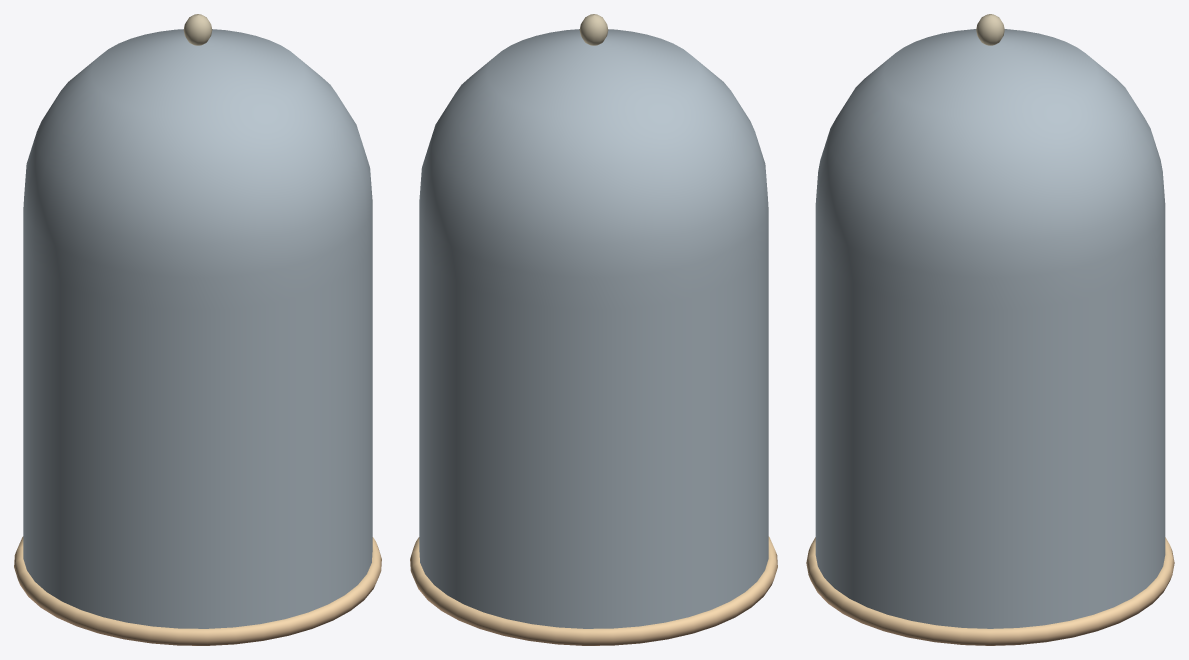
The model's file is Dome.glb.
3 renders of one model, left to right at view 1: azimuth 30°, elevation 25°; view 2: azimuth 150°, elevation 25°; view 3: azimuth 270°, elevation 25°, orthographic.
Parts seen in each view (by area): view 1: b612__Dome__glass, b612__Dome__rim; view 2: b612__Dome__glass, b612__Dome__rim; view 3: b612__Dome__glass, b612__Dome__rim.
Part boxes in pixels (<box>): b612__Dome__glass: <box>23,14,372,628</box>; b612__Dome__rim: <box>14,536,381,645</box>; b612__Dome__glass: <box>419,14,768,628</box>; b612__Dome__rim: <box>410,536,777,645</box>; b612__Dome__glass: <box>815,14,1165,628</box>; b612__Dome__rim: <box>806,537,1174,645</box>.
Size of the model in its own units: 0.9 by 1.5 by 0.9.
